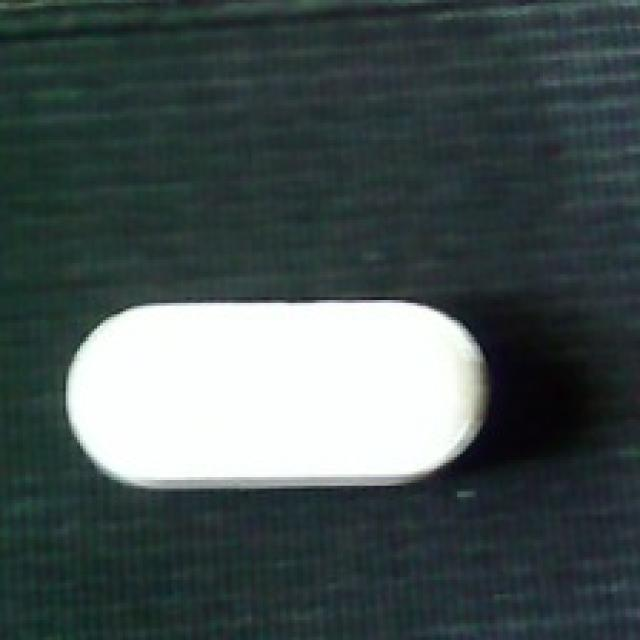no-defect: (63, 292, 494, 492)
